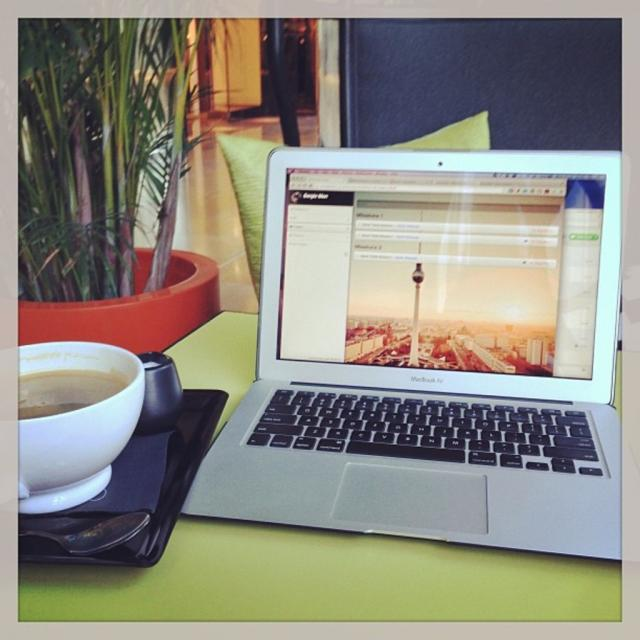Coffee: (16, 357, 130, 414)
Tea: (16, 369, 128, 417)
